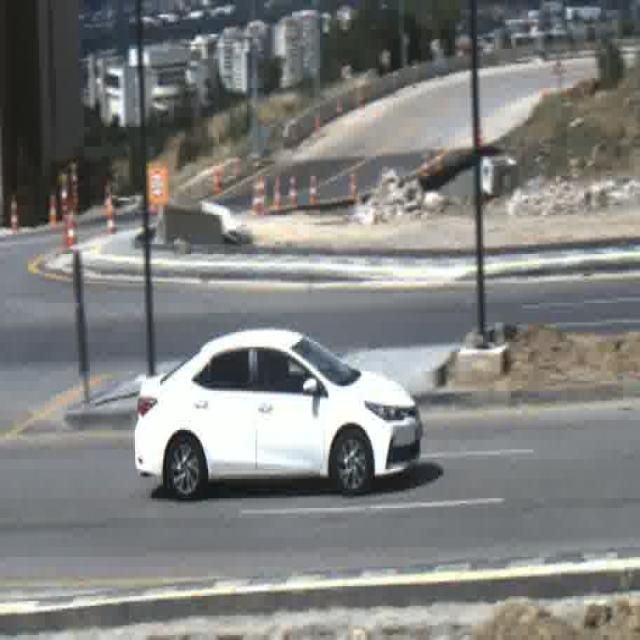Car: (134, 328, 420, 499)
